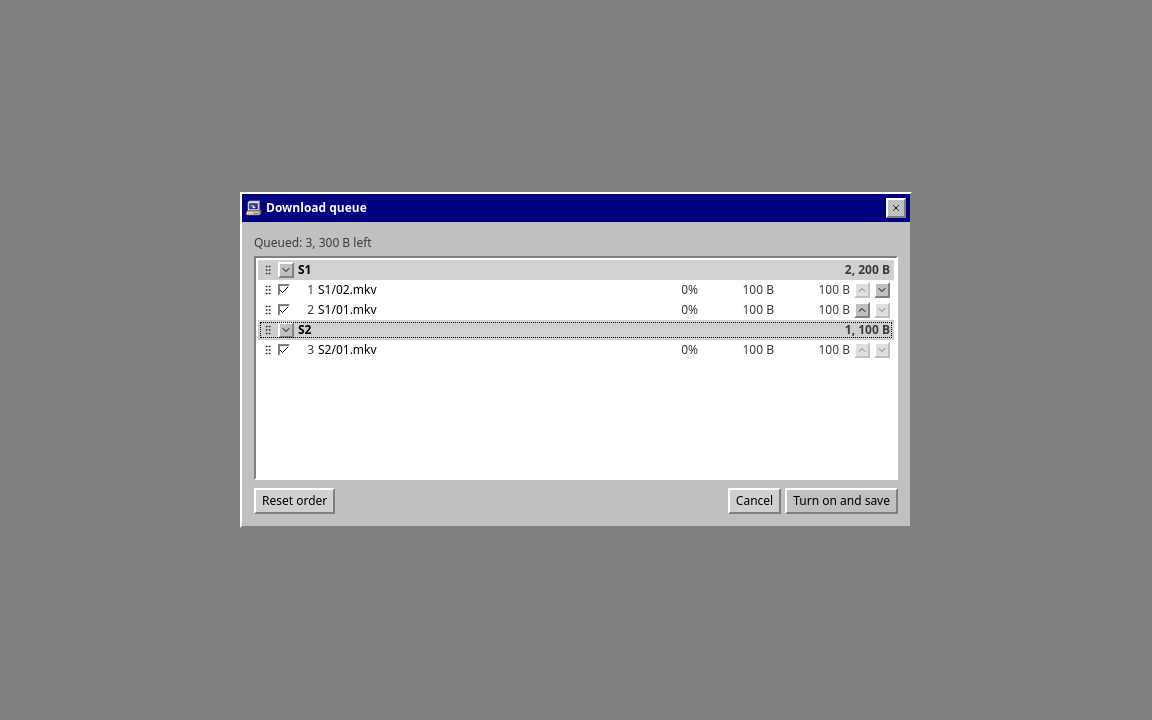
Test: TorrentQueueModal close guard › asks before discarding a moved order
Press ArrowUp in the list item "S2 1, 100 B", box [258,320,894,340]
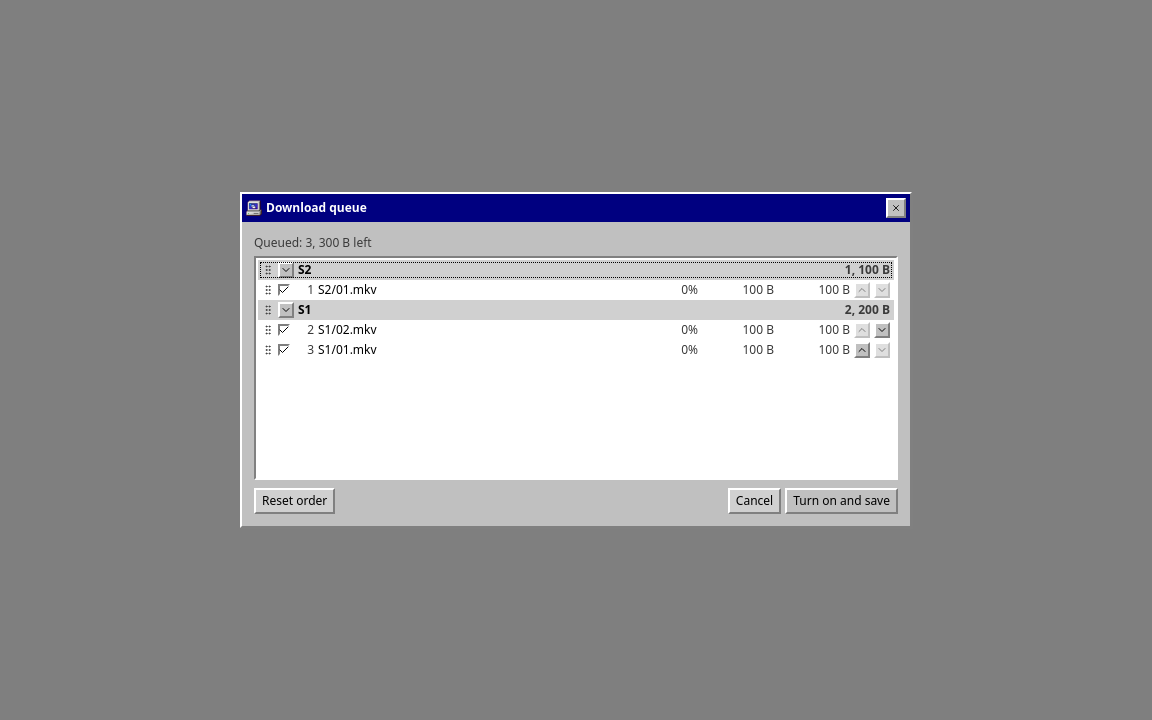
Click the button named "Close".
click(896, 208)  # box [886,198,906,218]
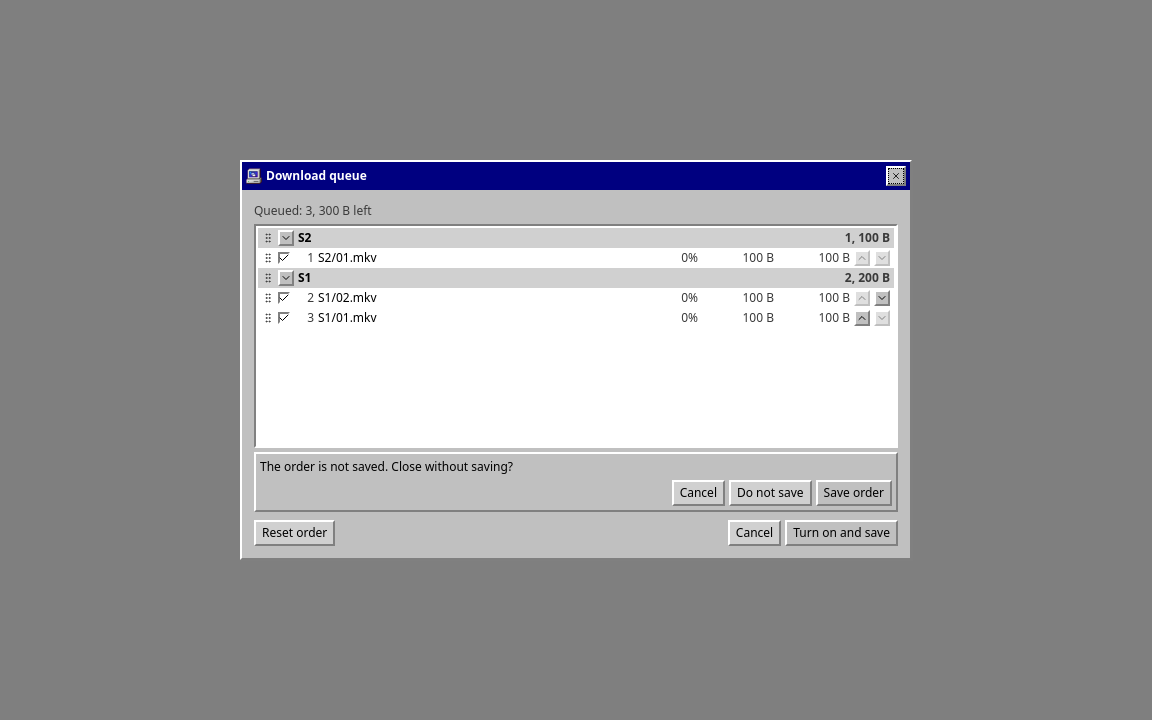
Now the element with test id "torrent-queue-confirm" is shown, box [254,452,898,512]
